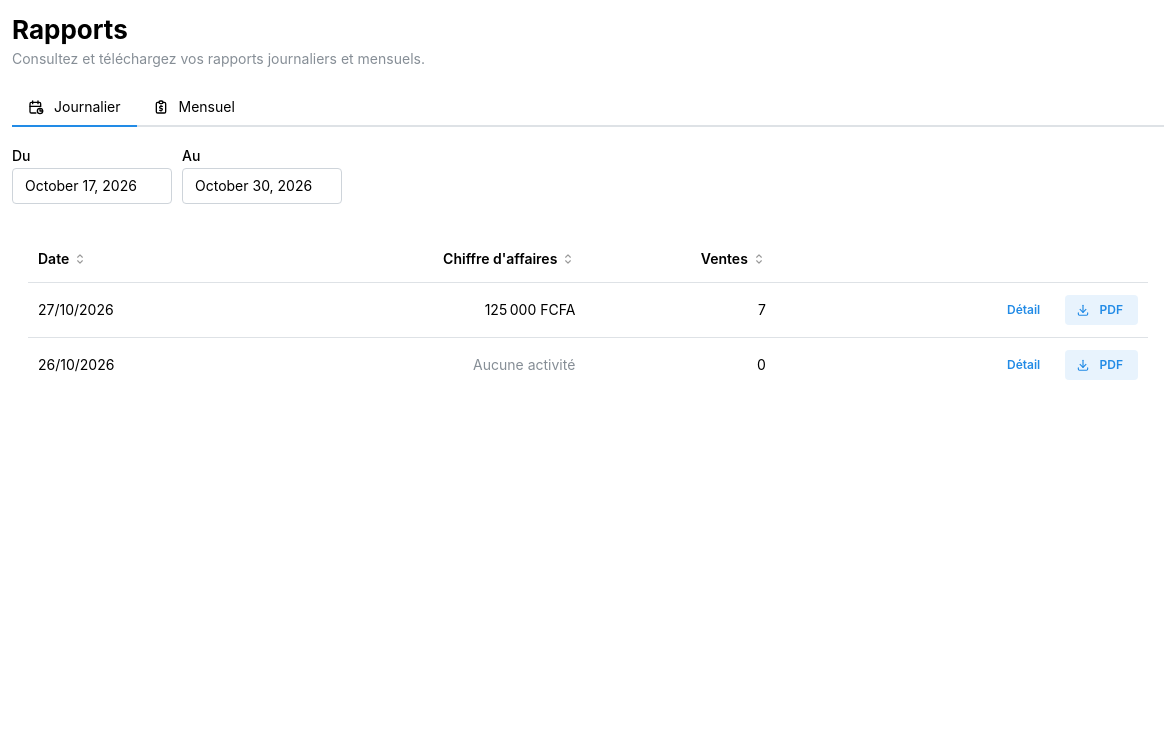
Test case: ReportsPage › affiche les indicateurs du mois quand il y a de l’activité
Click the tab "Mensuel" at coordinates (194, 108), box 136,89 -> 251,127
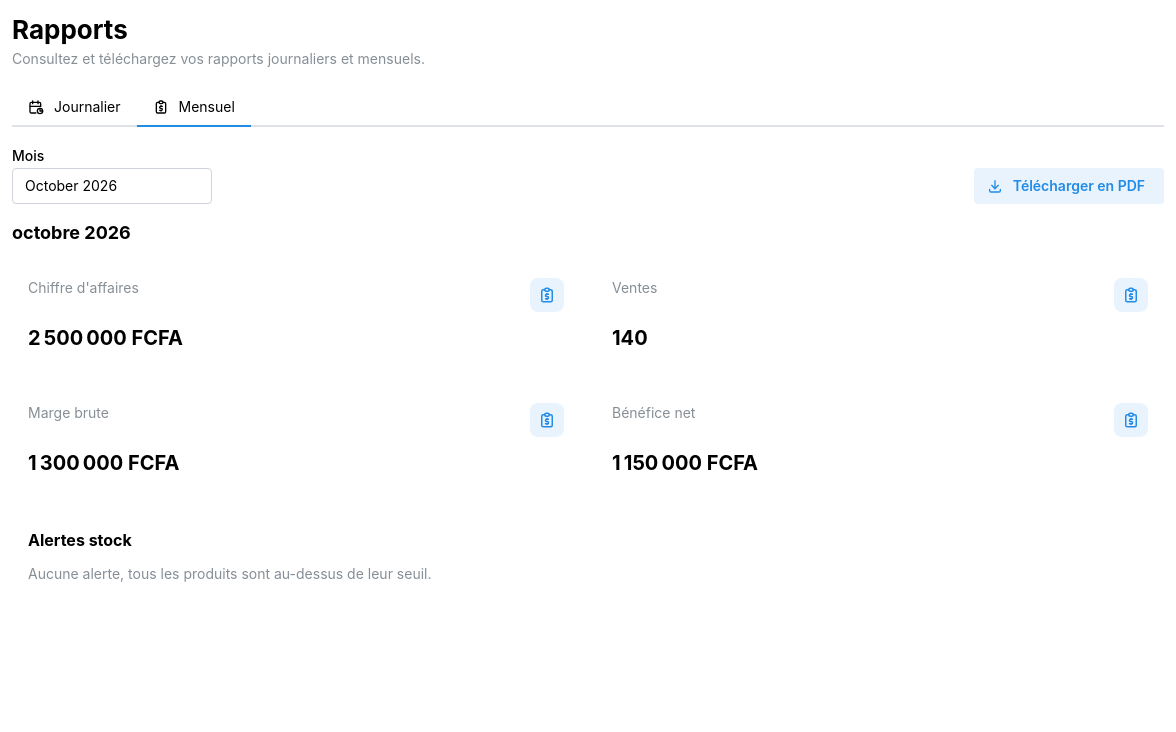
Check: the heading "octobre 2026" is shown, box 12,222 -> 131,243
